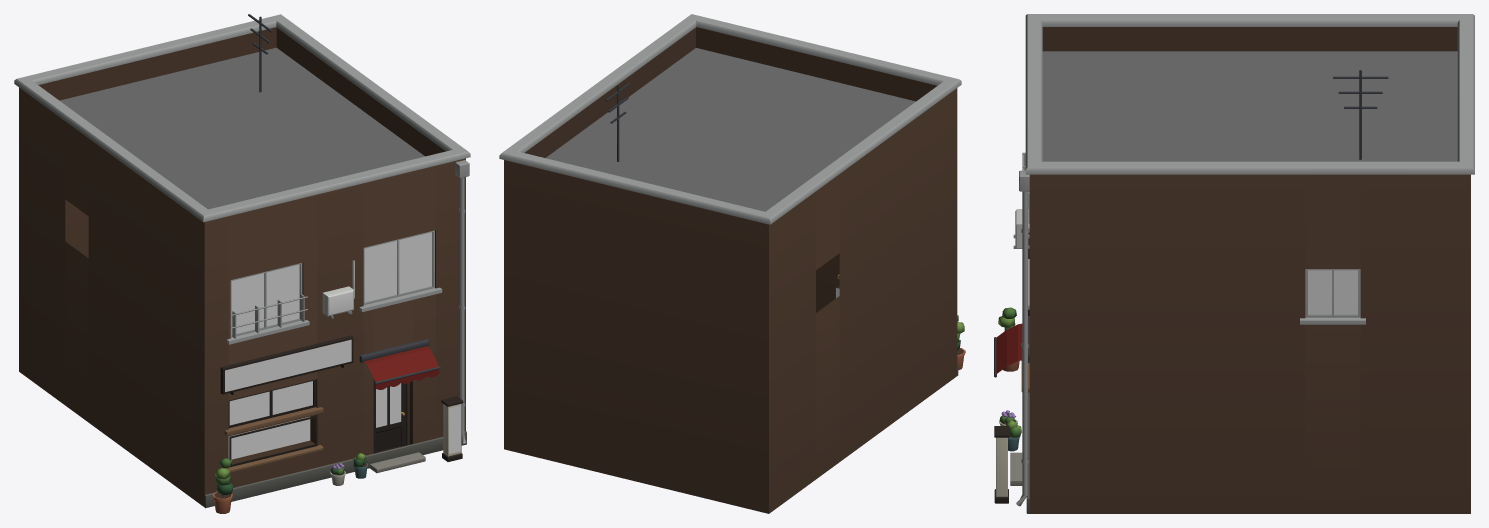
File: ShopKissaKM.fbx
The picture shows the model from 3 angles, left to right: view 1: azimuth 30°, elevation 25°; view 2: azimuth 150°, elevation 25°; view 3: azimuth 270°, elevation 25°; orthographic projection. The views are drawn at different scales.
Parts seen in each view (by area): view 1: ShopKissaKM; view 2: ShopKissaKM; view 3: ShopKissaKM.
Boxes of the visible parts, <box> form: ShopKissaKM: <box>14,14,470,513</box>; ShopKissaKM: <box>499,14,965,513</box>; ShopKissaKM: <box>994,14,1474,513</box>.
Bounding box in the file's own units: 6.67 × 8.1 × 8.71.
